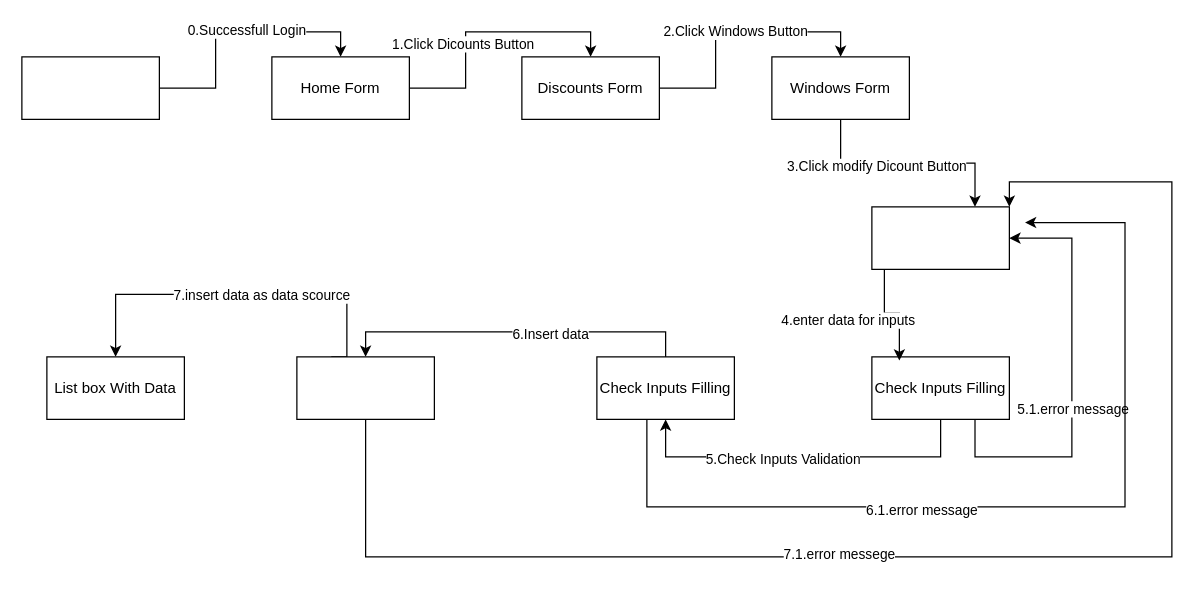
Image size: 1204x589. Some labels were removed from this diagram. Each missing label, with the centre of its shape:
"check data form database" goes at (365,387).
"Login To System" goes at (90,87).
"Modify Discount Form" goes at (940,237).
